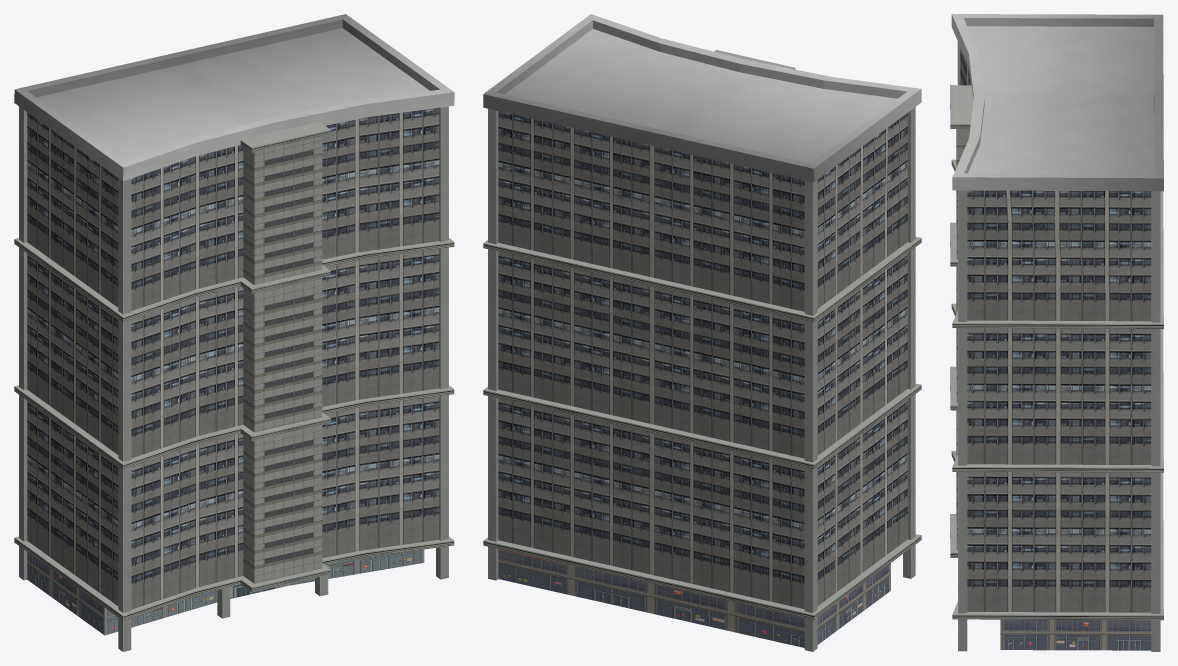
Rendered from Building_Remake.fbx.
3 renders of one model, left to right at view 1: azimuth 30°, elevation 25°; view 2: azimuth 150°, elevation 25°; view 3: azimuth 270°, elevation 25°, orthographic. The views are drawn at different scales.
Visible parts, largest first — view 1: Building_Remake; view 2: Building_Remake; view 3: Building_Remake.
Part boxes in pixels (x1=…): Building_Remake: x1=14, y1=14, x2=454, y2=651; Building_Remake: x1=483, y1=14, x2=921, y2=651; Building_Remake: x1=950, y1=14, x2=1163, y2=651.
Bounding box in the file's own units: 10070 × 14304 × 5754.
1 material, 1 textured.
